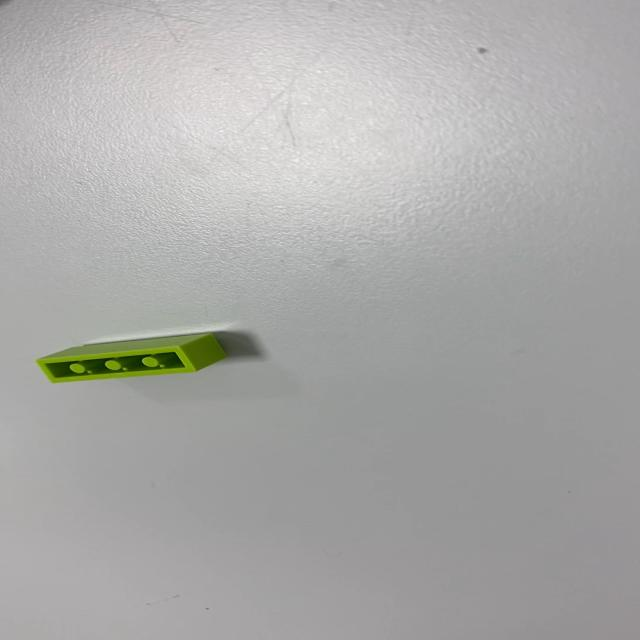C4x1x1: (34, 332, 228, 384)
